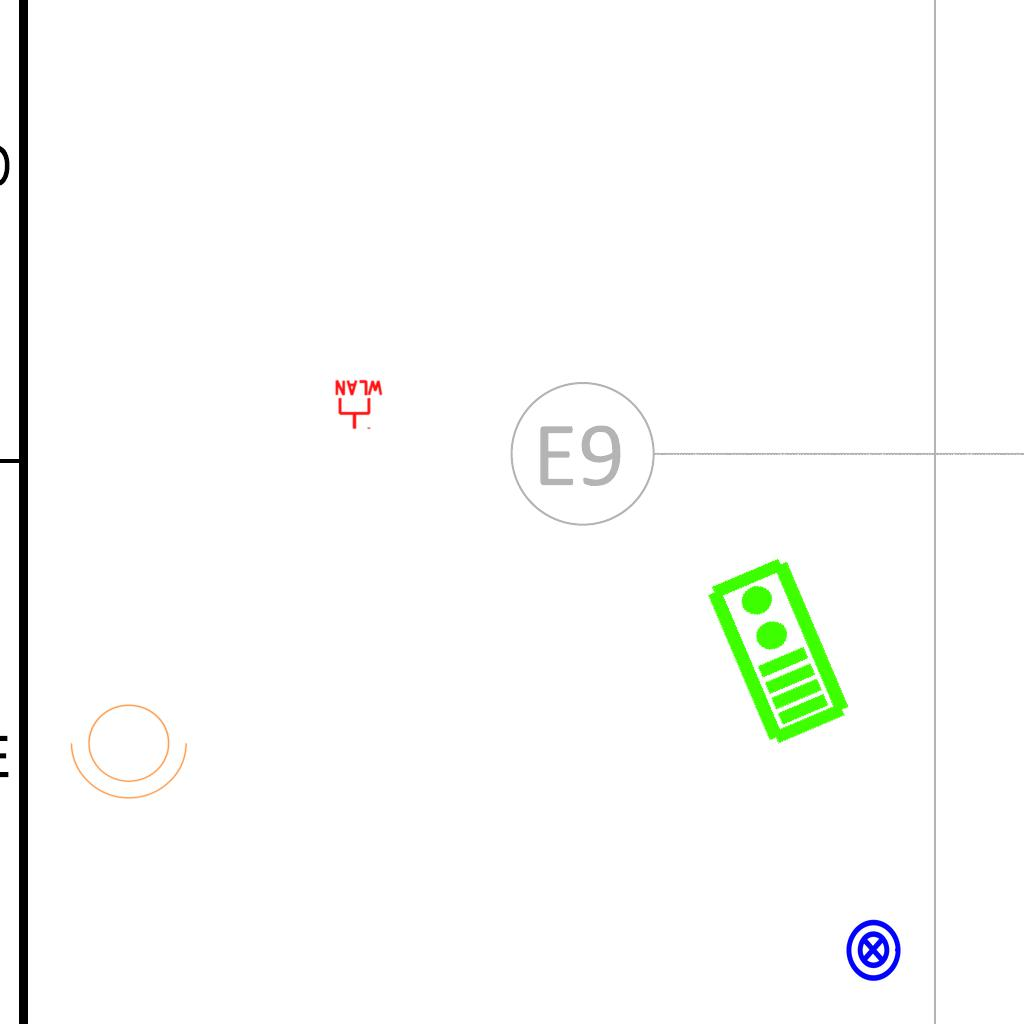Gegensprechanlage_mit_Video: (698, 551, 855, 751)
Scheinwerfer_fuer_Alarmbeleuchtung: (66, 692, 198, 804)
Taster_beleuchtet: (840, 917, 906, 983)
WLAN: (333, 379, 385, 431)
